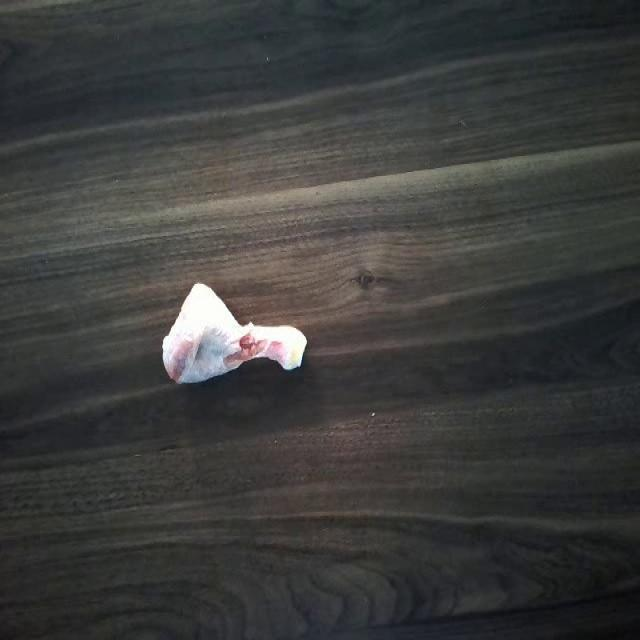leg: (154, 284, 306, 384)
